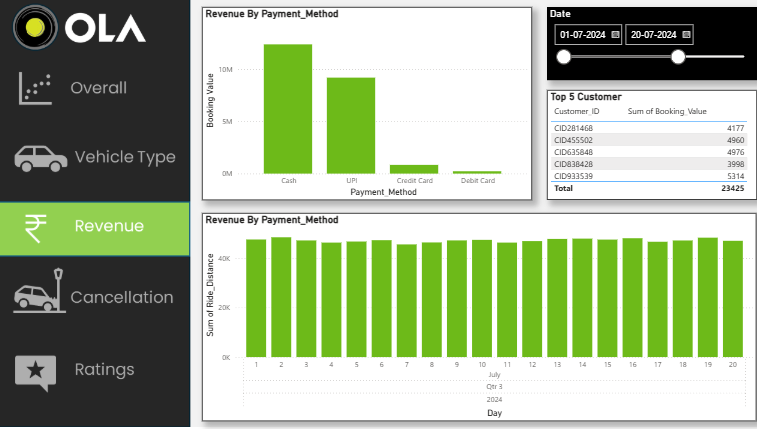

What the dashboard file says about the page in this screenshot:
{"tool":"powerbi","page":{"name":"Revenue","canvas":[1280,720],"ordinal":2},"visuals":[{"type":"actionButton","box":[0,230.4,324,90.7],"z":0},{"type":"actionButton","box":[0,450.7,324,90.7],"z":1000},{"type":"actionButton","box":[0,583.2,324,90.7],"z":2000},{"type":"actionButton","box":[0,110.9,324,90.7],"z":3000},{"type":"columnChart","title":"Revenue By Payment_Method","fields":{"Category":["July.Payment_Method"],"Y":["Sum(July.Booking_Value)"]},"box":[343.7,16.9,550.3,321.7],"z":4000},{"type":"columnChart","title":"Revenue By Payment_Method","fields":{"Y":["Sum(July.Ride_Distance)"],"Category":["July.Date.Variation.Date Hierarchy.Year","July.Date.Variation.Date Hierarchy.Quarter","July.Date.Variation.Date Hierarchy.Month","July.Date.Variation.Date Hierarchy.Day"]},"box":[343.7,360.6,924.4,347.1],"z":5000},{"type":"slicer","title":"Date","fields":{"Values":["July.Date"]},"box":[917.7,16.9,350.5,121.9],"z":6000},{"type":"tableEx","title":"Top 5 Customer","fields":{"Values":["July.Customer_ID","Sum(July.Booking_Value)"]},"box":[917.7,155.8,350.5,182.9],"z":7000}]}

Visuals, with their boxes in screenshot pixels (x1, y1, x2, y2), scaled from the page's 1280x720 canvas onto the 757x429 screenshot:
actionButton: (x1=0, y1=137, x2=192, y2=191)
actionButton: (x1=0, y1=269, x2=192, y2=323)
actionButton: (x1=0, y1=347, x2=192, y2=402)
actionButton: (x1=0, y1=66, x2=192, y2=120)
"Revenue By Payment_Method" columnChart: (x1=203, y1=10, x2=529, y2=202)
"Revenue By Payment_Method" columnChart: (x1=203, y1=215, x2=750, y2=422)
"Date" slicer: (x1=543, y1=10, x2=750, y2=83)
"Top 5 Customer" tableEx: (x1=543, y1=93, x2=750, y2=202)
